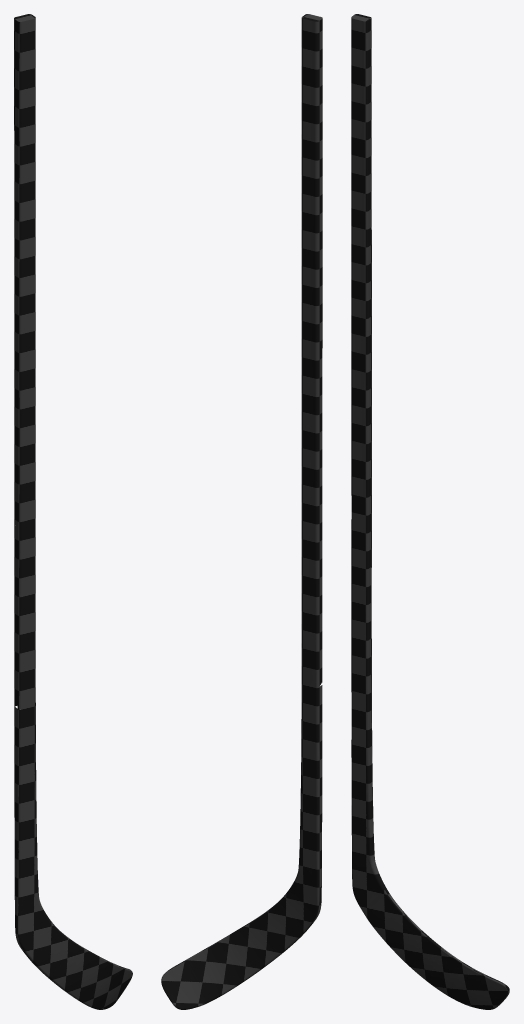
3 renders of one model, left to right at view 1: azimuth 30°, elevation 25°; view 2: azimuth 150°, elevation 25°; view 3: azimuth 330°, elevation 25°, orthographic. The views are drawn at different scales.
Parts seen in each view (by area): view 1: geometry_0; view 2: geometry_0; view 3: geometry_0.
Boxes of the visible parts, <box> form: geometry_0: <box>14,14,132,1009</box>; geometry_0: <box>161,14,322,1009</box>; geometry_0: <box>351,14,509,1009</box>.
Size of the model in its own units: 235 by 1650 by 85.31.
1 material, 1 textured.
